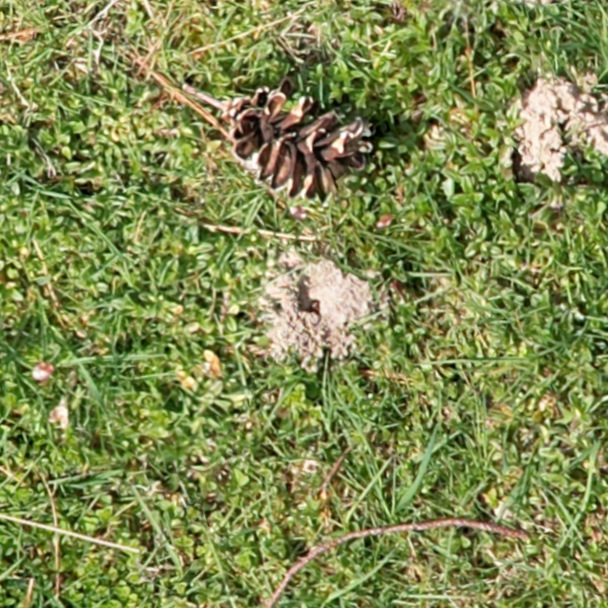nest: (252, 257, 382, 360), (506, 70, 608, 185)
